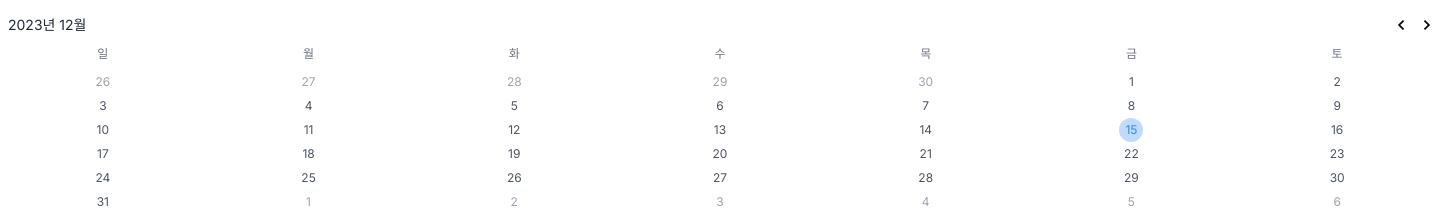
미니달력의 오른쪽 버튼을 클릭 시 다음달로 넘어간다.
The image size is (1452, 224).
Click the button named "right button". click: (1427, 25)
box: [1414, 12, 1440, 38]
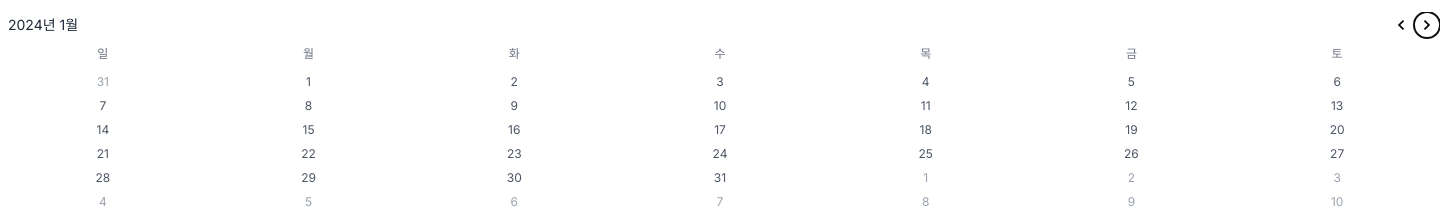
Result: the text named "mini calendar display year and month" reads "2024년 1월" at [8, 16, 78, 33]
